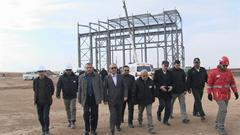epi: (205, 54, 240, 134), (31, 63, 56, 135), (57, 64, 80, 130)
noepi: (77, 61, 102, 135), (152, 61, 176, 127), (102, 64, 123, 135), (134, 68, 156, 135), (186, 56, 208, 120), (117, 64, 137, 131), (170, 59, 189, 124)
